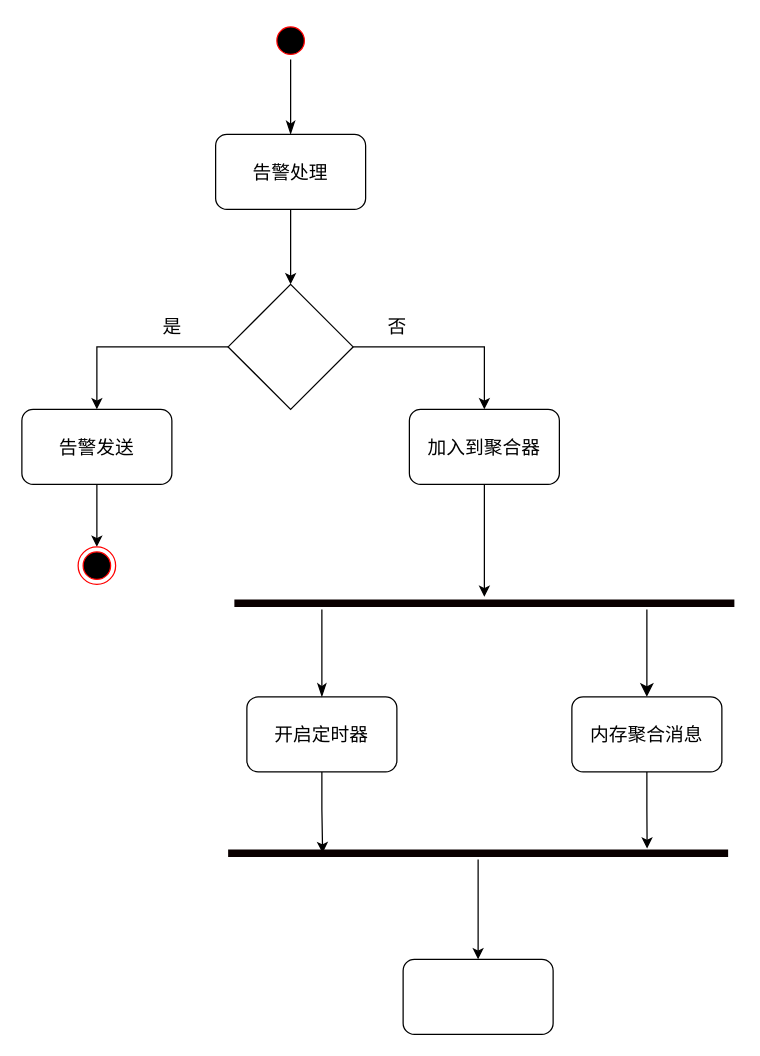
Image size: 760x1056. Some labels were removed from this diagram. The shapes that lost their labels are listed below. From the top down, each one's box as (x1, y1, x2, y2) in pixels, then its label:
(227, 283, 353, 409): 是否立刻发送
(402, 958, 553, 1034): 组装告警内容
